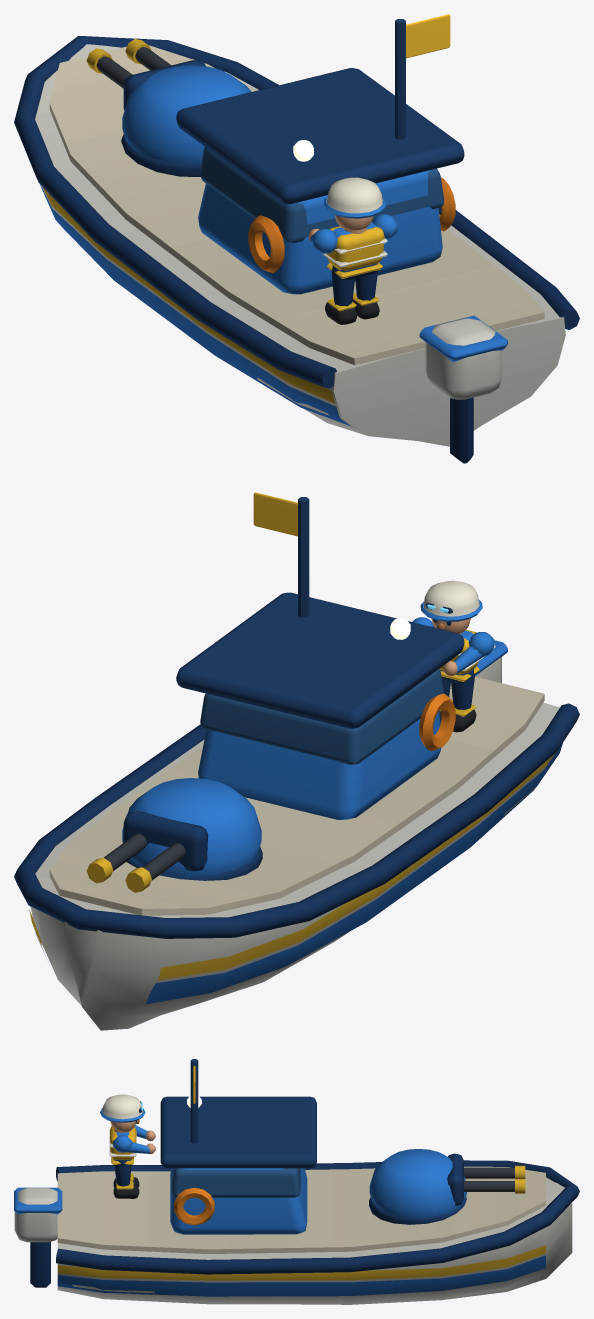
File: escort-boat.glb
The picture shows the model from 3 angles, top to bottom: view 1: azimuth 30°, elevation 25°; view 2: azimuth 150°, elevation 25°; view 3: azimuth 270°, elevation 25°; orthographic projection. The views are drawn at different scales.
Visible parts, largest first — view 1: escort-boat Kestrel navy, escort-boat Cream, escort-boat Warm white, escort-boat Kestrel sky, escort-boat Turret Kestrel sky, escort-boat Sunflower, escort-boat Tinted glass, escort-boat Signal orange, escort-boat Turret Gunmetal, escort-boat Rubber, escort-boat Turret Kestrel navy, escort-boat Turret Sunflower; view 2: escort-boat Kestrel navy, escort-boat Cream, escort-boat Warm white, escort-boat Kestrel sky, escort-boat Tinted glass, escort-boat Turret Kestrel sky, escort-boat Sunflower, escort-boat Turret Kestrel navy, escort-boat Signal orange, escort-boat Turret Gunmetal, escort-boat Turret Sunflower; view 3: escort-boat Kestrel navy, escort-boat Cream, escort-boat Warm white, escort-boat Kestrel sky, escort-boat Turret Kestrel sky, escort-boat Sunflower, escort-boat Tinted glass, escort-boat Turret Gunmetal, escort-boat Signal orange, escort-boat Turret Kestrel navy, escort-boat Skin warm, escort-boat Rubber.
Part boxes in pixels (<box>): escort-boat Kestrel navy: <box>14,19,579,463</box>; escort-boat Cream: <box>49,45,544,365</box>; escort-boat Warm white: <box>35,44,565,446</box>; escort-boat Kestrel sky: <box>39,170,507,426</box>; escort-boat Turret Kestrel sky: <box>122,65,251,164</box>; escort-boat Sunflower: <box>42,14,450,403</box>; escort-boat Tinted glass: <box>200,147,444,242</box>; escort-boat Signal orange: <box>248,177,455,272</box>; escort-boat Turret Gunmetal: <box>96,47,170,88</box>; escort-boat Rubber: <box>325,299,379,324</box>; escort-boat Turret Kestrel navy: <box>123,60,205,110</box>; escort-boat Turret Sunflower: <box>86,39,150,73</box>; escort-boat Kestrel navy: <box>14,497,579,938</box>; escort-boat Cream: <box>49,676,544,915</box>; escort-boat Warm white: <box>30,580,559,1030</box>; escort-boat Kestrel sky: <box>35,599,562,1004</box>; escort-boat Tinted glass: <box>200,669,444,764</box>; escort-boat Turret Kestrel sky: <box>122,778,261,876</box>; escort-boat Sunflower: <box>29,492,552,980</box>; escort-boat Turret Kestrel navy: <box>123,811,208,871</box>; escort-boat Signal orange: <box>419,693,455,751</box>; escort-boat Turret Gunmetal: <box>104,833,185,880</box>; escort-boat Turret Sunflower: <box>86,857,151,892</box>; escort-boat Kestrel navy: <box>30,1059,579,1287</box>; escort-boat Cream: <box>57,1166,545,1253</box>; escort-boat Warm white: <box>14,1094,572,1304</box>; escort-boat Kestrel sky: <box>14,1108,545,1296</box>; escort-boat Turret Kestrel sky: <box>369,1149,467,1217</box>; escort-boat Sunflower: <box>57,1065,545,1280</box>; escort-boat Tinted glass: <box>171,1168,300,1197</box>; escort-boat Turret Gunmetal: <box>464,1167,514,1191</box>; escort-boat Signal orange: <box>174,1187,214,1225</box>; escort-boat Turret Kestrel navy: <box>447,1153,463,1205</box>; escort-boat Skin warm: <box>110,1121,155,1154</box>; escort-boat Rubber: <box>113,1177,139,1198</box>.
Bounding box in the file's own units: 1.84 × 2.21 × 4.34.
Materials: 13 (10 with a texture image).
